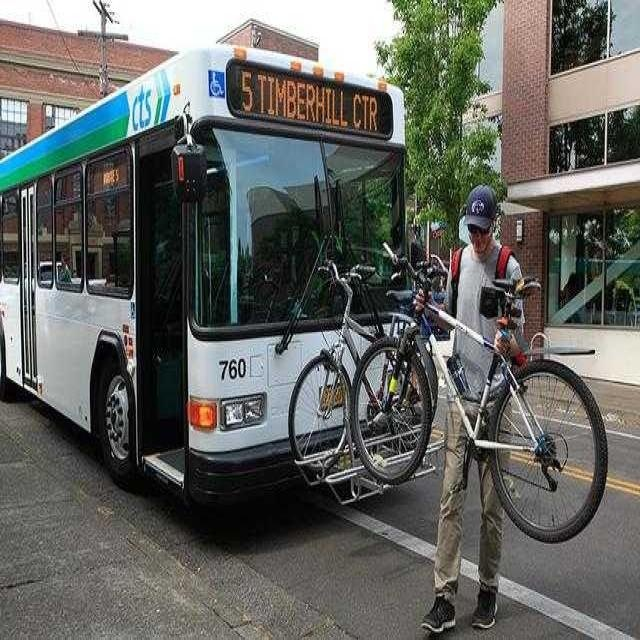Bus: (0, 34, 422, 544)
